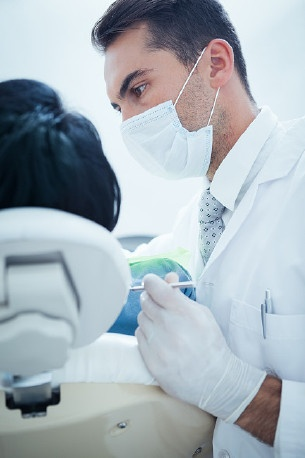Mask: (105, 67, 220, 182)
